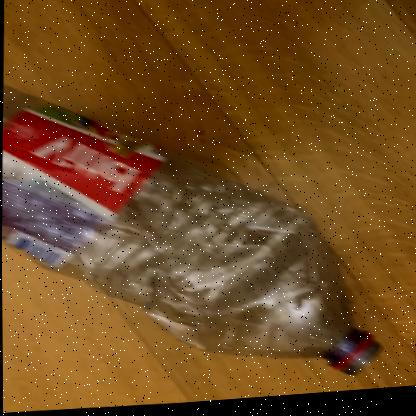Plastic: (1, 85, 378, 378)
